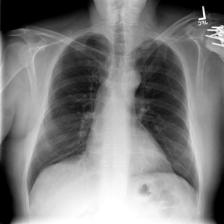normal: (24, 28, 202, 210)
